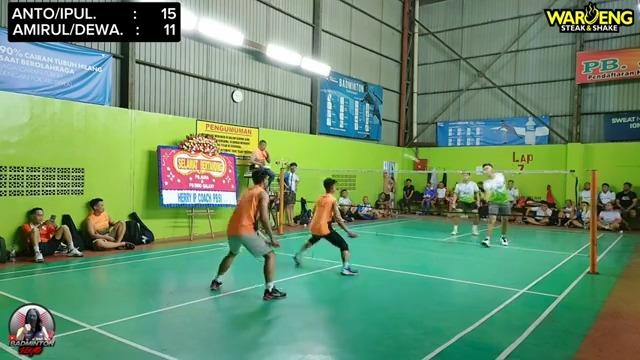Shuttlecock: (404, 151, 422, 165)
